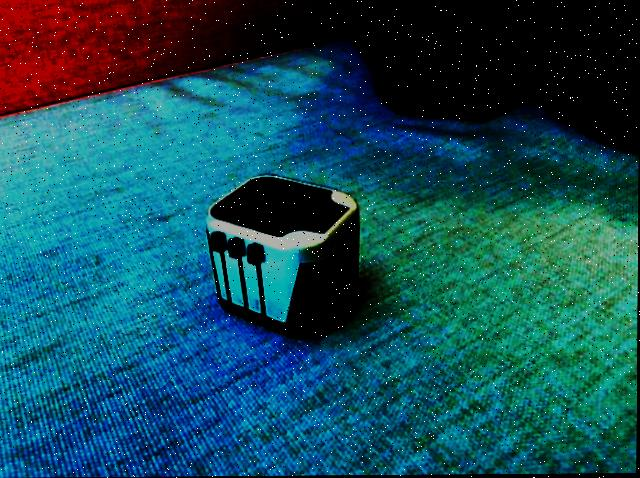adapter: (205, 172, 360, 338)
